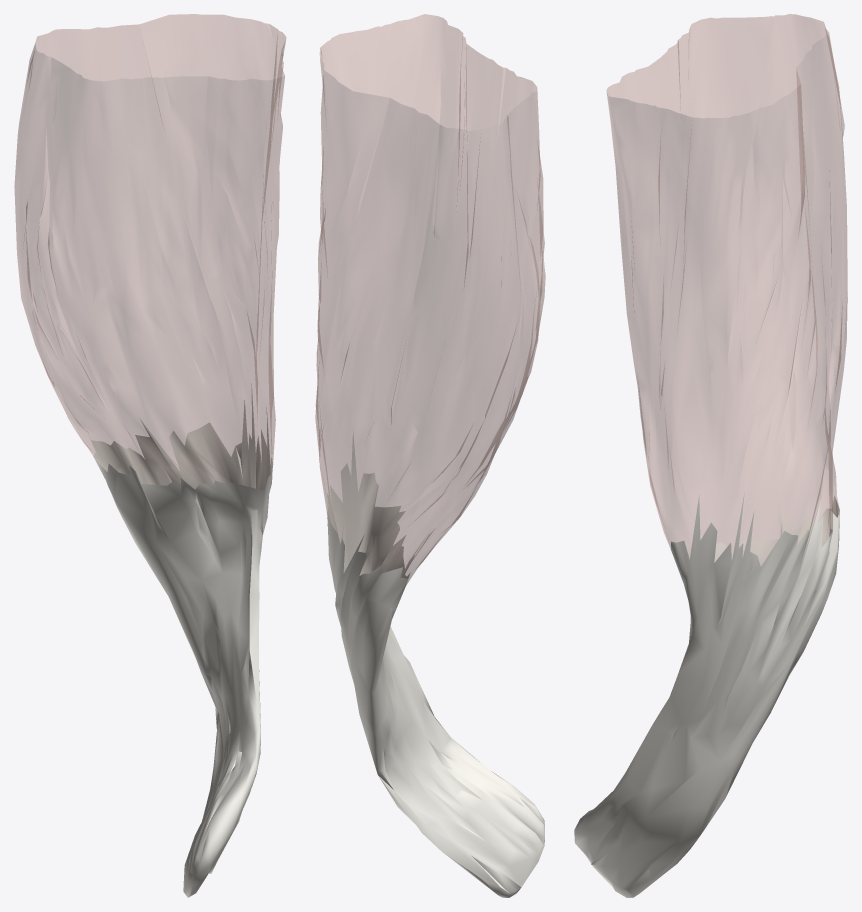
Rendered from semi-membraneux.glb.
The picture shows the model from 3 angles, left to right: view 1: azimuth 30°, elevation 25°; view 2: azimuth 150°, elevation 25°; view 3: azimuth 270°, elevation 25°; orthographic projection. The views are drawn at different scales.
Parts seen in each view (by area): view 1: semi-membraneux; view 2: semi-membraneux; view 3: semi-membraneux.
Boxes of the visible parts, bbox=[...] form: semi-membraneux: bbox=[14, 14, 286, 897]; semi-membraneux: bbox=[315, 14, 545, 897]; semi-membraneux: bbox=[574, 14, 847, 897].
Size of the model in its own units: 0.054 by 0.1879 by 0.055.
